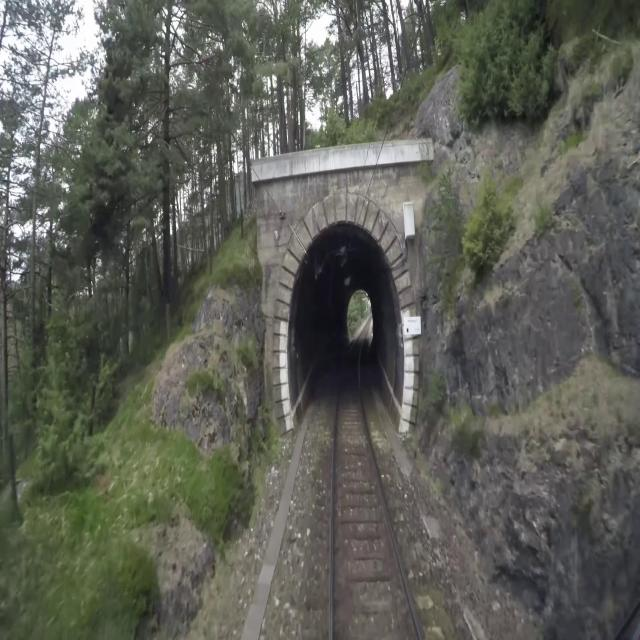rail-track: (333, 324, 416, 639)
